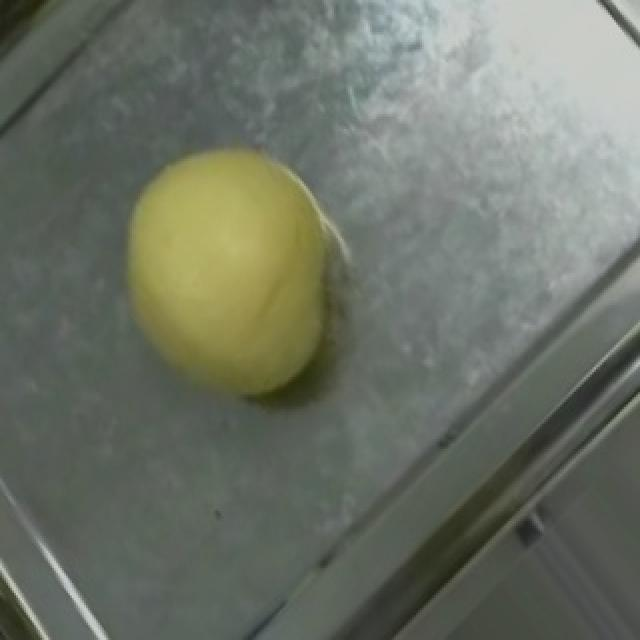Fruit: (76, 106, 396, 442)
